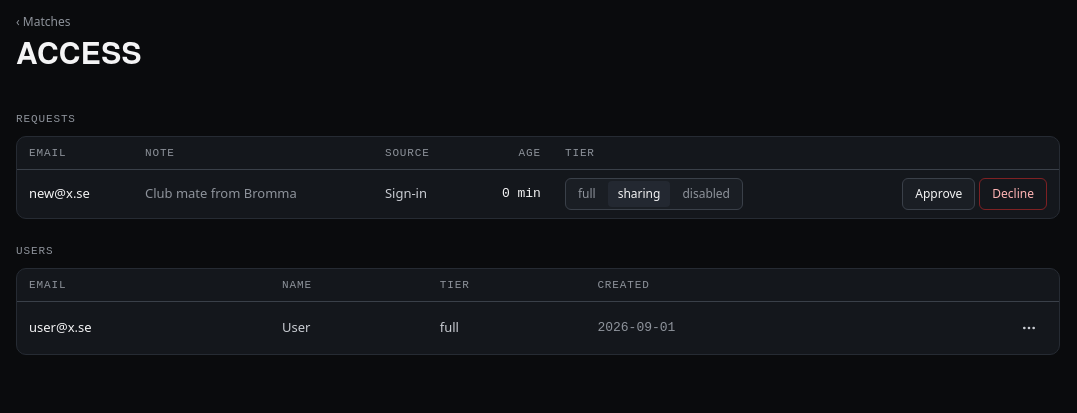
AdminAccess › shows a 404's detail on the page
Click the button "Approve": (939, 194) [902, 178, 975, 210]
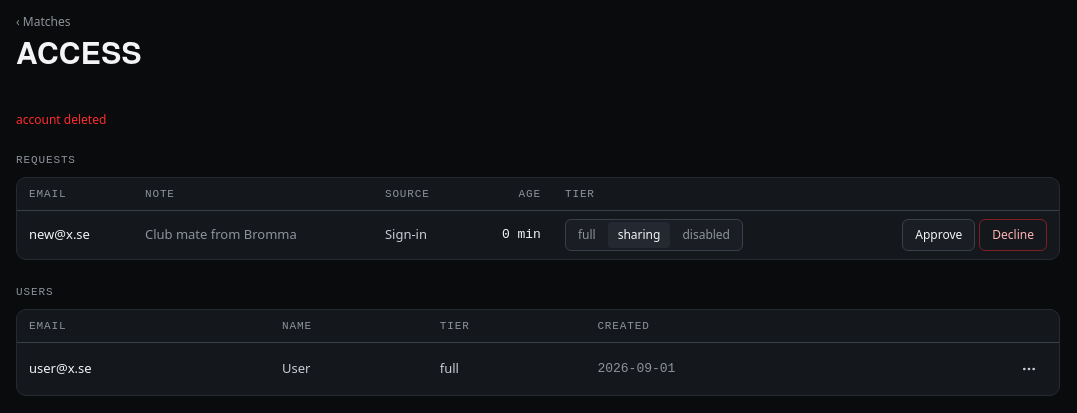
Check: the message reads "account deleted", box [16, 111, 106, 128]
